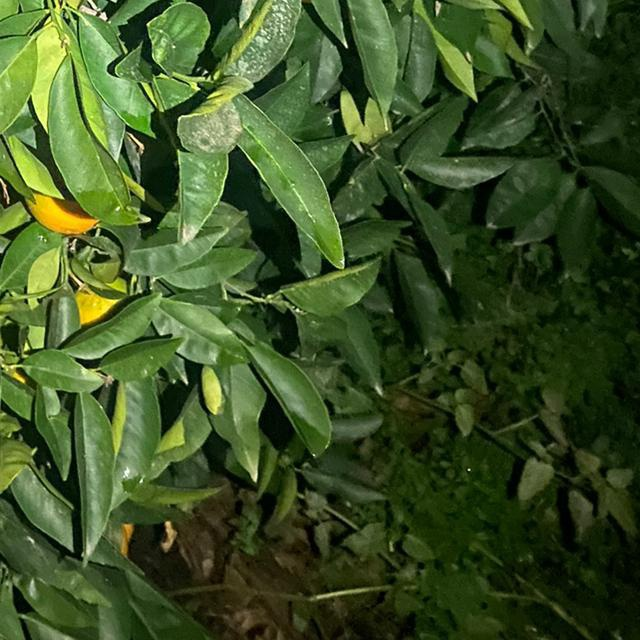orange: (18, 189, 104, 235)
